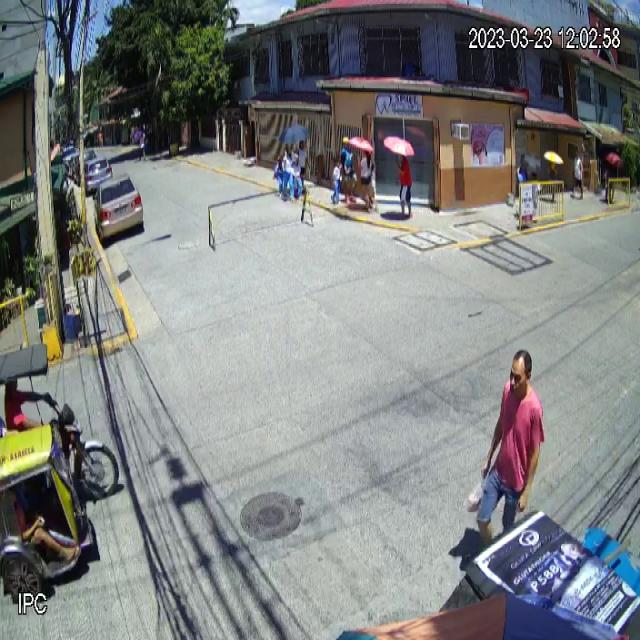Tricycle: (0, 341, 124, 611)
